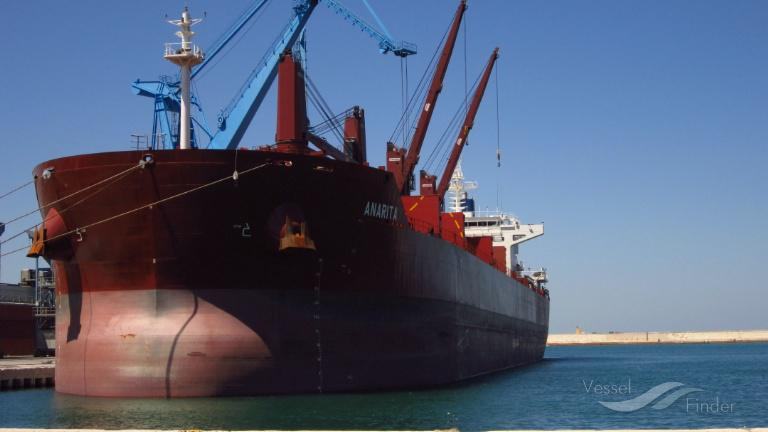OCR: (358, 192, 407, 227)
